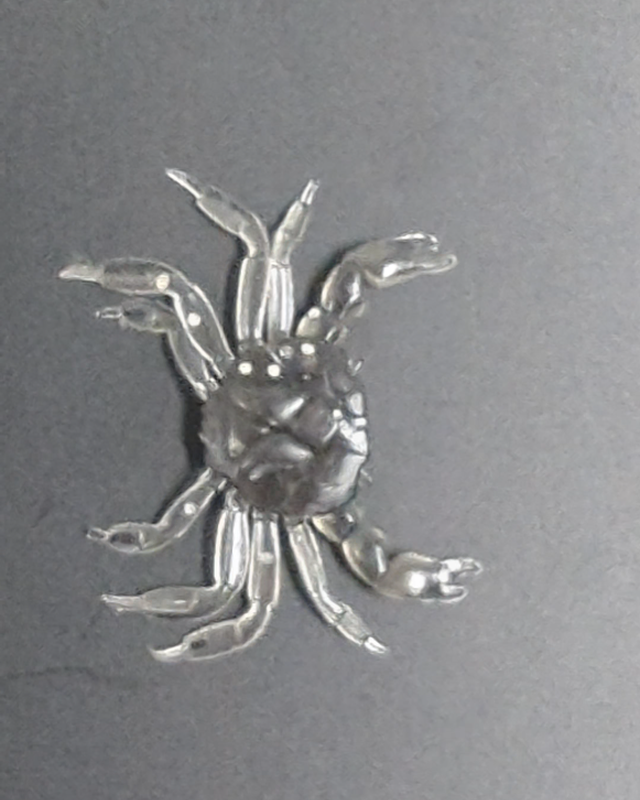crab1: (56, 162, 490, 670)
